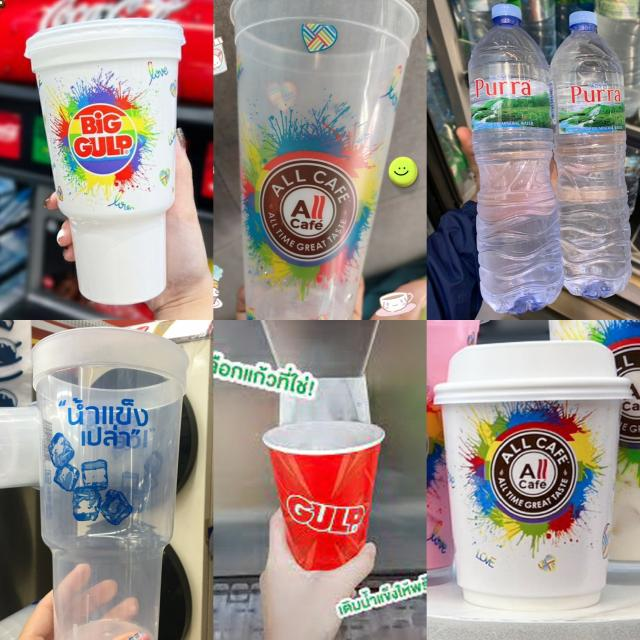Single-Use-Plastic: (230, 0, 419, 319), (434, 340, 630, 610), (32, 328, 189, 640), (25, 19, 185, 305), (262, 422, 385, 570)
